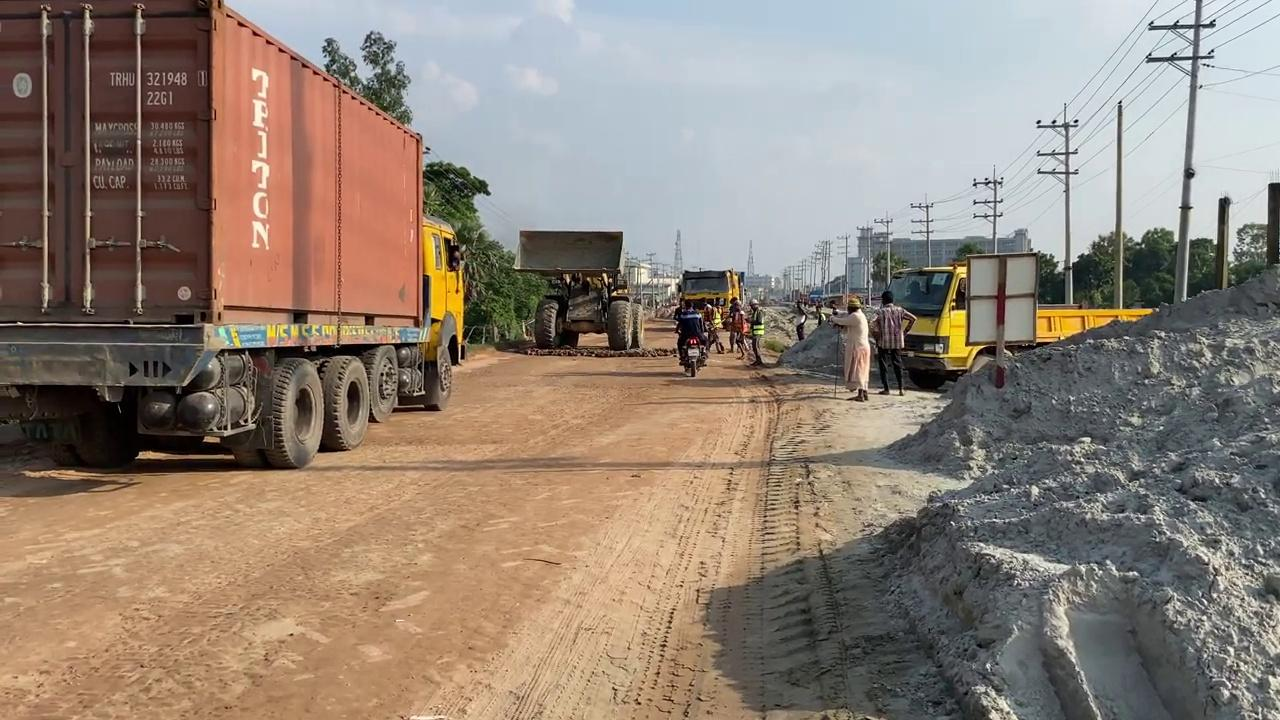Motorcycle: (674, 329, 708, 377)
Muddy road: (1, 312, 964, 718)
Pole: (1113, 99, 1124, 308)
Tree: (0, 0, 468, 470), (883, 251, 1156, 388), (511, 229, 638, 351), (675, 268, 744, 321)
